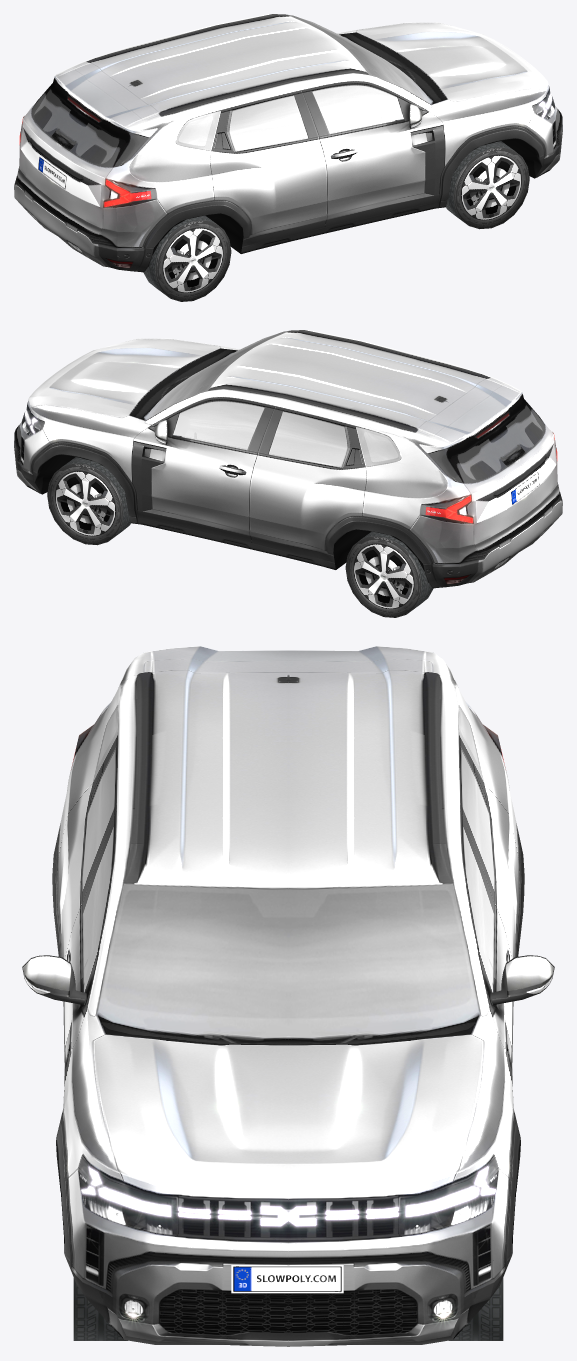
File: dacia_duster_2024.glb
The picture shows the model from 3 angles, top to bottom: view 1: azimuth 30°, elevation 25°; view 2: azimuth 150°, elevation 25°; view 3: azimuth 270°, elevation 25°; orthographic projection. The views are drawn at different scales.
Visible parts, largest first — view 1: Object_6; view 2: Object_6; view 3: Object_6.
Part boxes in pixels (x1,y1,x2,y2): Object_6: [14, 14, 562, 301]; Object_6: [14, 330, 562, 617]; Object_6: [22, 646, 554, 1346].
Size of the model in its own units: 806 by 293 by 384.
1 material, 1 textured.
